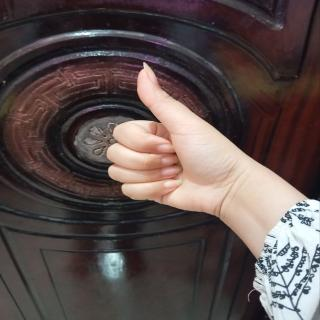ALIF: (102, 59, 248, 230)
